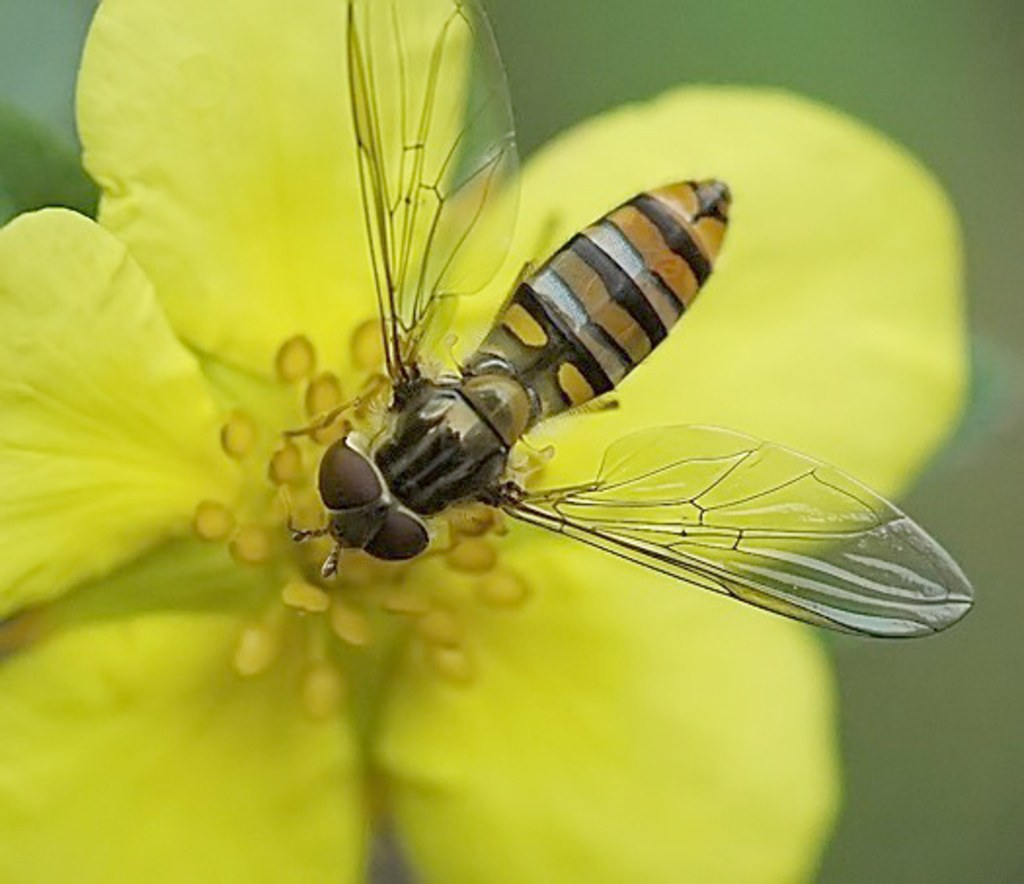bee: (289, 0, 977, 644)
insect: (0, 0, 973, 876)
